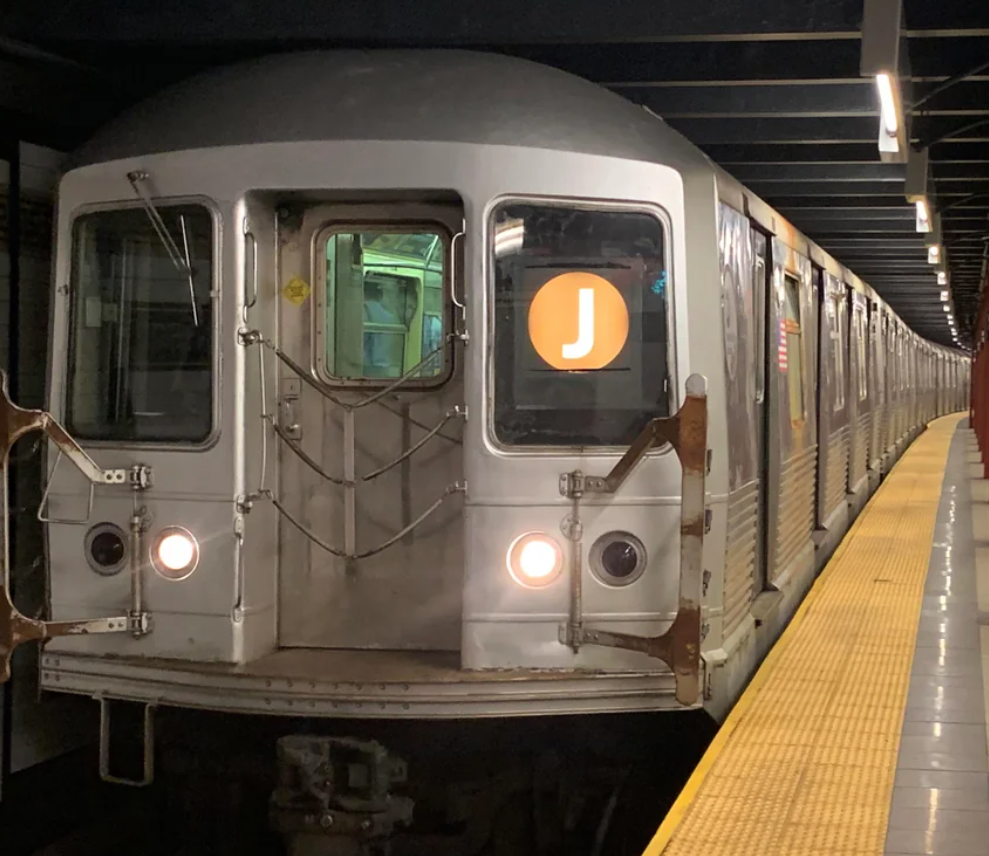train: (37, 48, 727, 735)
